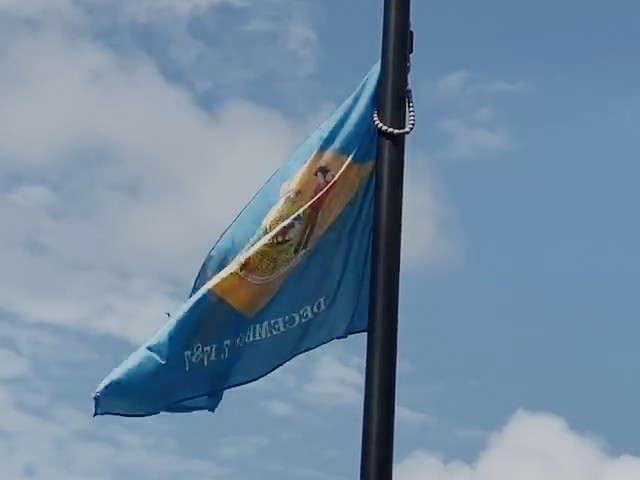Delaware flag: (92, 58, 380, 421)
